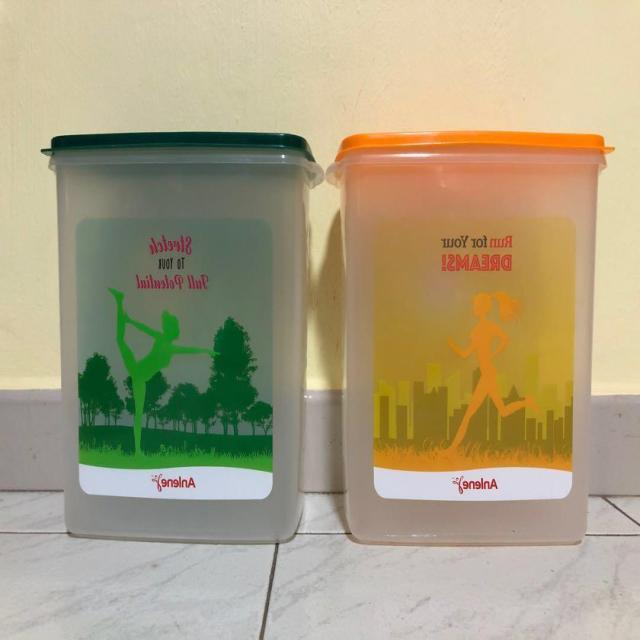plastic: (322, 128, 614, 552), (29, 129, 324, 542)
